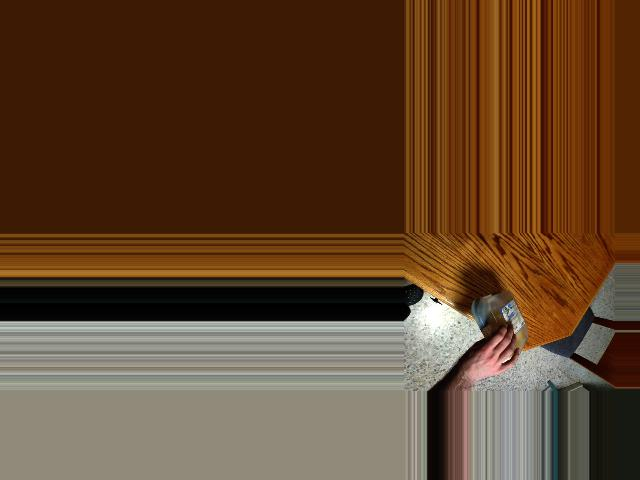cheese: (477, 294, 519, 353)
